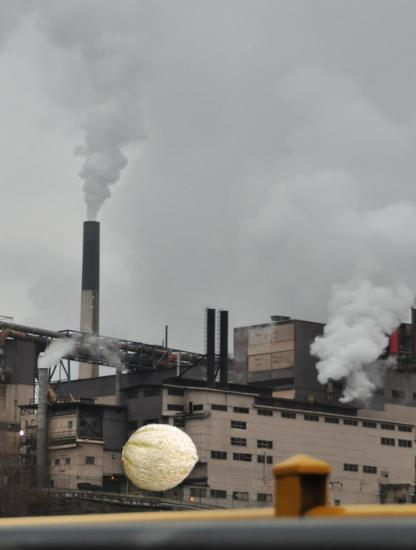Cantaloupe: (122, 420, 199, 497)
